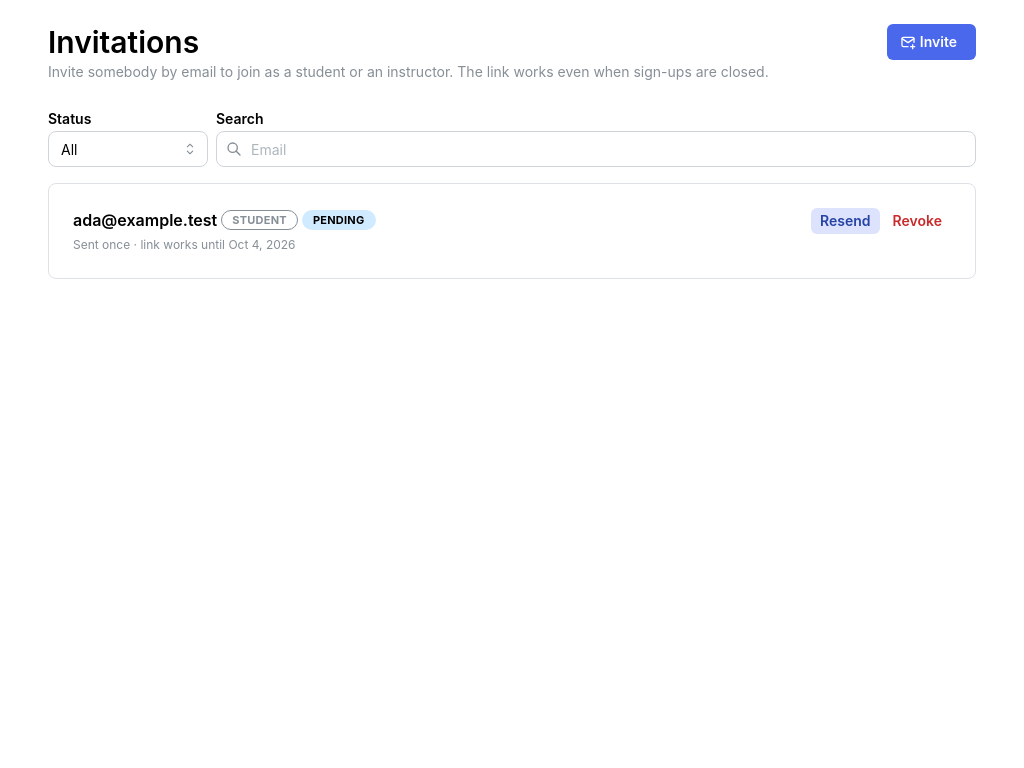
Scenario: InvitationsRoute › revokes after asking
This screenshot has width=1024, height=768.
Click the button with aria-label "Revoke the invitation to ada@example.test".
click(917, 221)  # box 884,208 -> 951,234
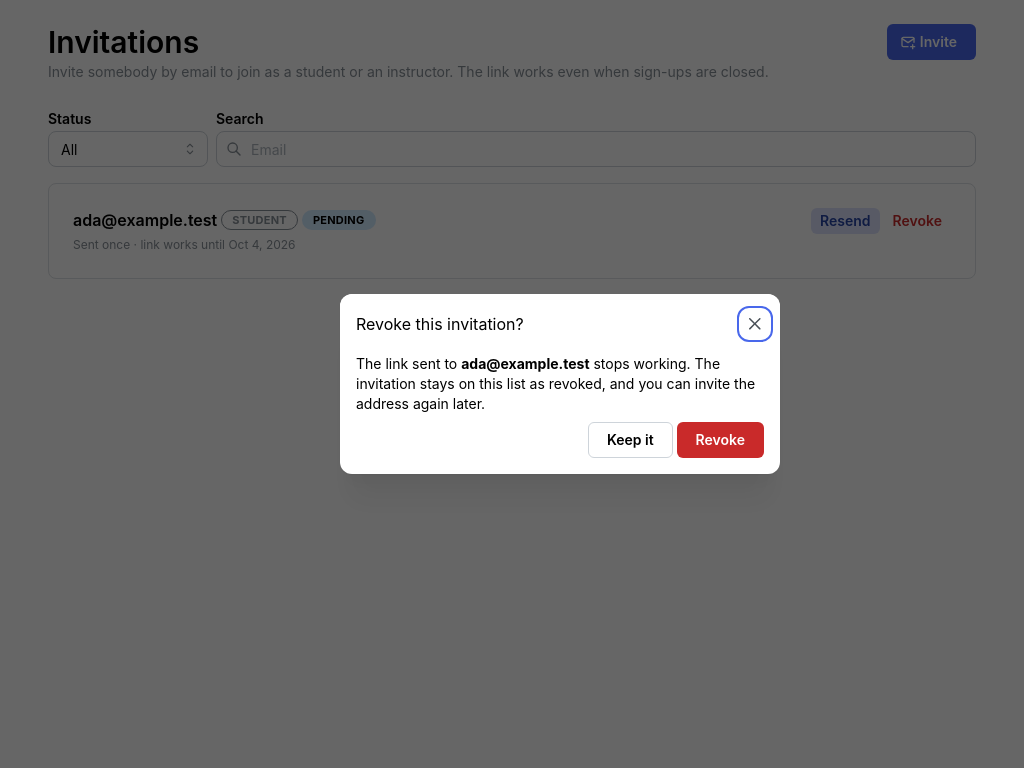
Click the button "Revoke".
click(720, 440)  # box 677,422 -> 764,458
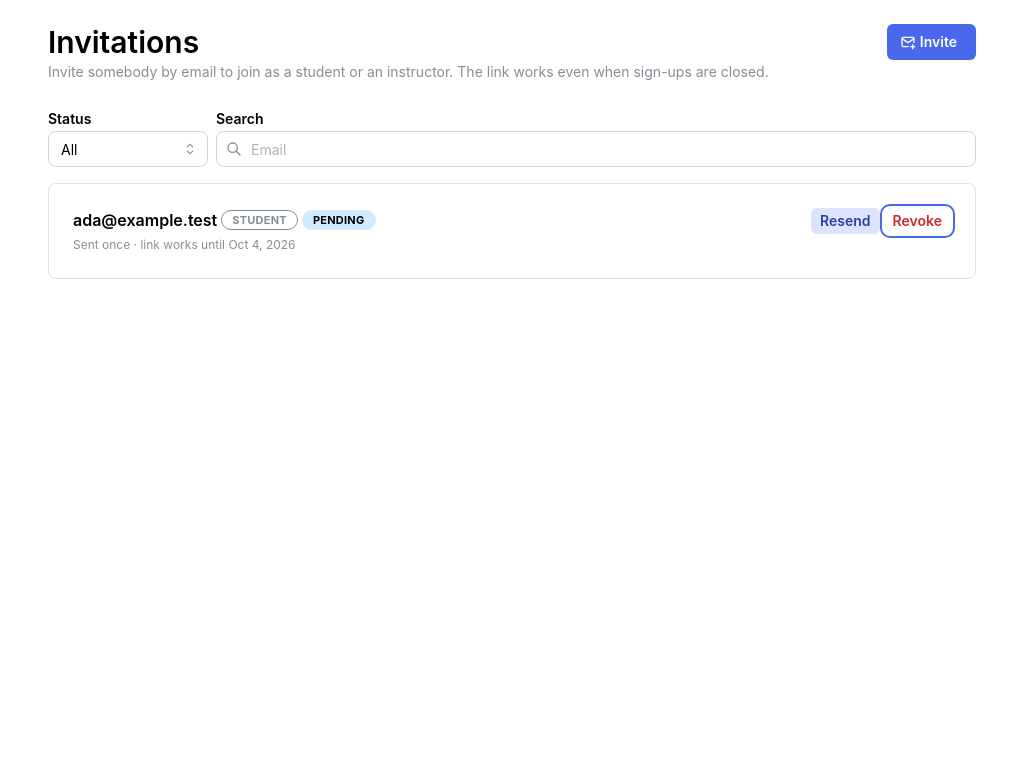
Check: the dialog is gone
